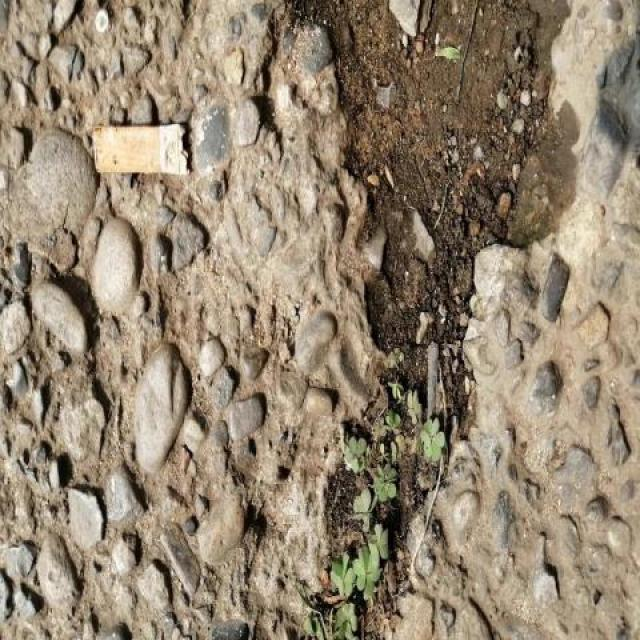non-organic waste: (90, 118, 197, 183)
